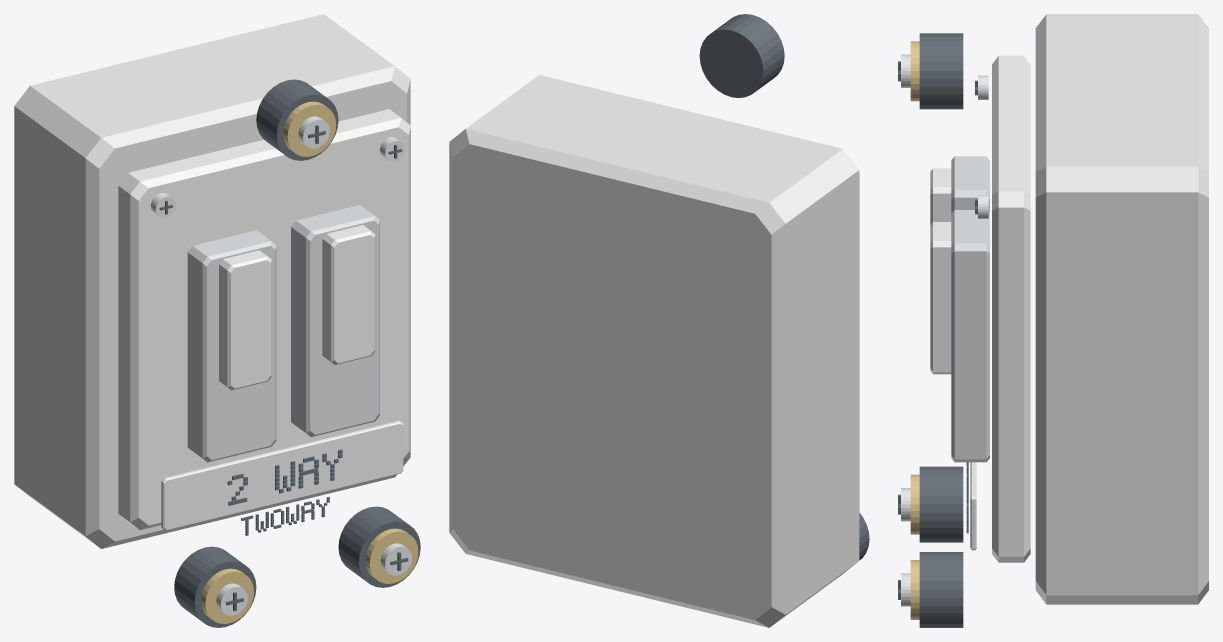
Rendered from twoWaySwitch.glb.
The picture shows the model from 3 angles, left to right: view 1: azimuth 30°, elevation 25°; view 2: azimuth 150°, elevation 25°; view 3: azimuth 270°, elevation 25°; orthographic projection. The views are drawn at different scales.
Parts seen in each view (by area): view 1: twoWaySwitch-detailed; view 2: twoWaySwitch-detailed; view 3: twoWaySwitch-detailed.
Part boxes in pixels (left/top/right/bottom): twoWaySwitch-detailed: left=14, top=14, right=420, bottom=627; twoWaySwitch-detailed: left=449, top=14, right=869, bottom=627; twoWaySwitch-detailed: left=898, top=14, right=1208, bottom=627.
Bounding box in the file's own units: 1.65 × 2.48 × 1.28.
